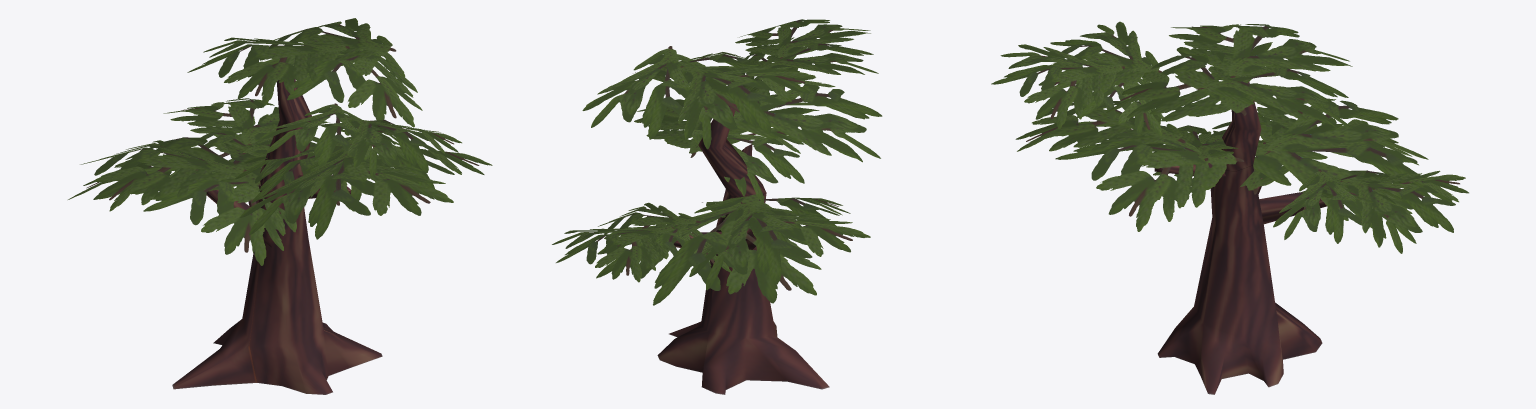
File: pine-tree-trunk-008-24.glb
3 views of the same model, side by side, from view 1: azimuth 30°, elevation 25°; view 2: azimuth 150°, elevation 25°; view 3: azimuth 270°, elevation 25° (orthographic). The views are drawn at different scales.
Visible parts, largest first — view 1: pine_leaves.002_23, pine_Tree_Trunk.008_24; view 2: pine_leaves.002_23, pine_Tree_Trunk.008_24; view 3: pine_leaves.002_23, pine_Tree_Trunk.008_24.
Boxes of the visible parts, left/top/right/bottom form: pine_leaves.002_23: left=68, top=18, right=492, bottom=265; pine_Tree_Trunk.008_24: left=172, top=79, right=382, bottom=394; pine_leaves.002_23: left=552, top=19, right=882, bottom=305; pine_Tree_Trunk.008_24: left=657, top=103, right=829, bottom=394; pine_leaves.002_23: left=991, top=21, right=1468, bottom=253; pine_Tree_Trunk.008_24: left=1154, top=82, right=1326, bottom=394.
Bounding box in the file's own units: 26.33 × 22.24 × 36.33.
2 materials, 2 textured.
